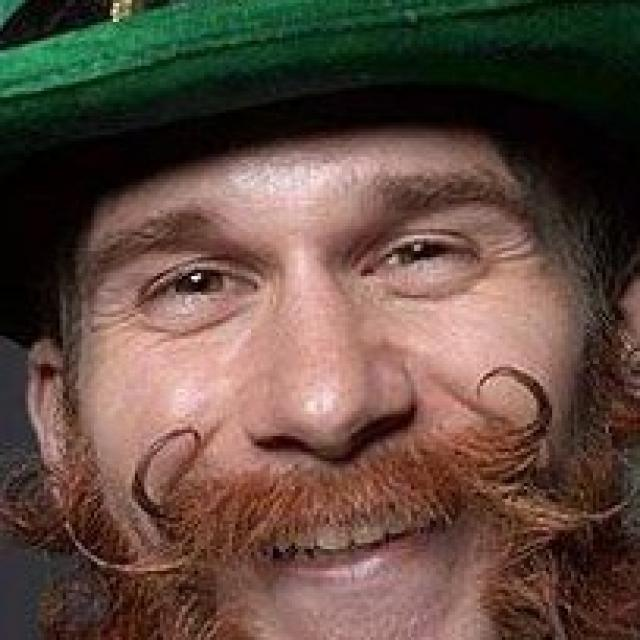Normal: (63, 86, 619, 637)
